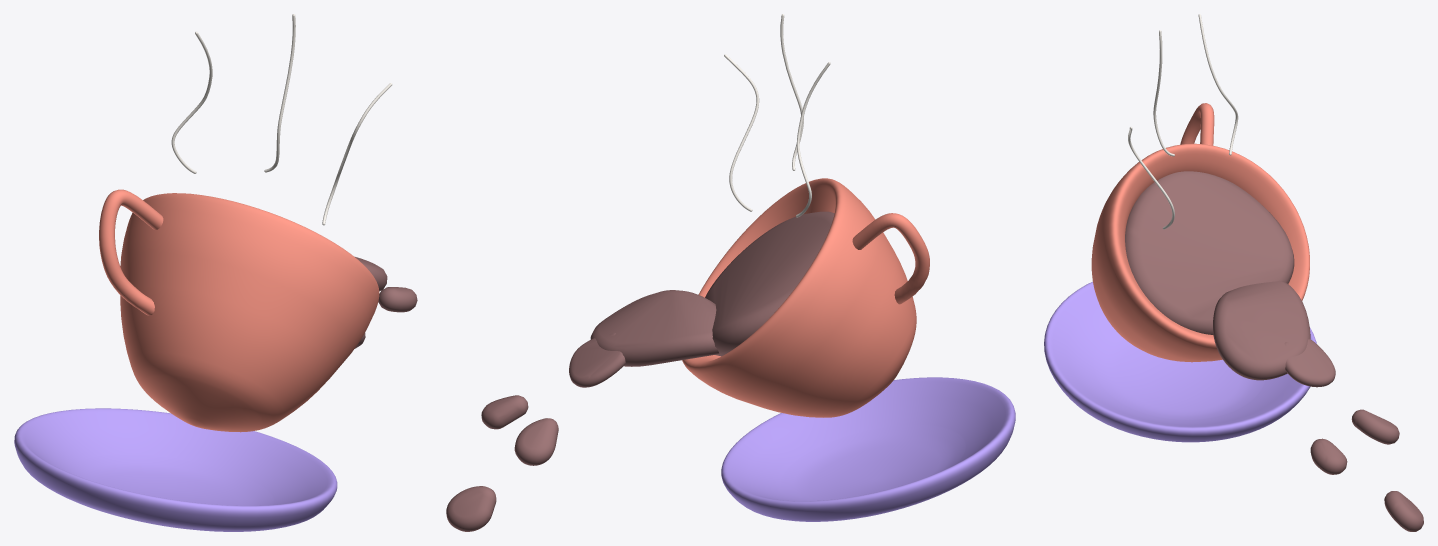
File: spill.glb
The picture shows the model from 3 angles, left to right: view 1: azimuth 30°, elevation 25°; view 2: azimuth 150°, elevation 25°; view 3: azimuth 270°, elevation 25°; orthographic projection. The views are drawn at different scales.
Visible parts, largest first — view 1: spill; view 2: spill; view 3: spill.
Boxes of the visible parts, <box> form: spill: <box>14,14,417,531</box>; spill: <box>446,14,1015,531</box>; spill: <box>1044,14,1423,531</box>.
Bounding box in the file's own units: 4.58 × 4.66 × 3.83.
